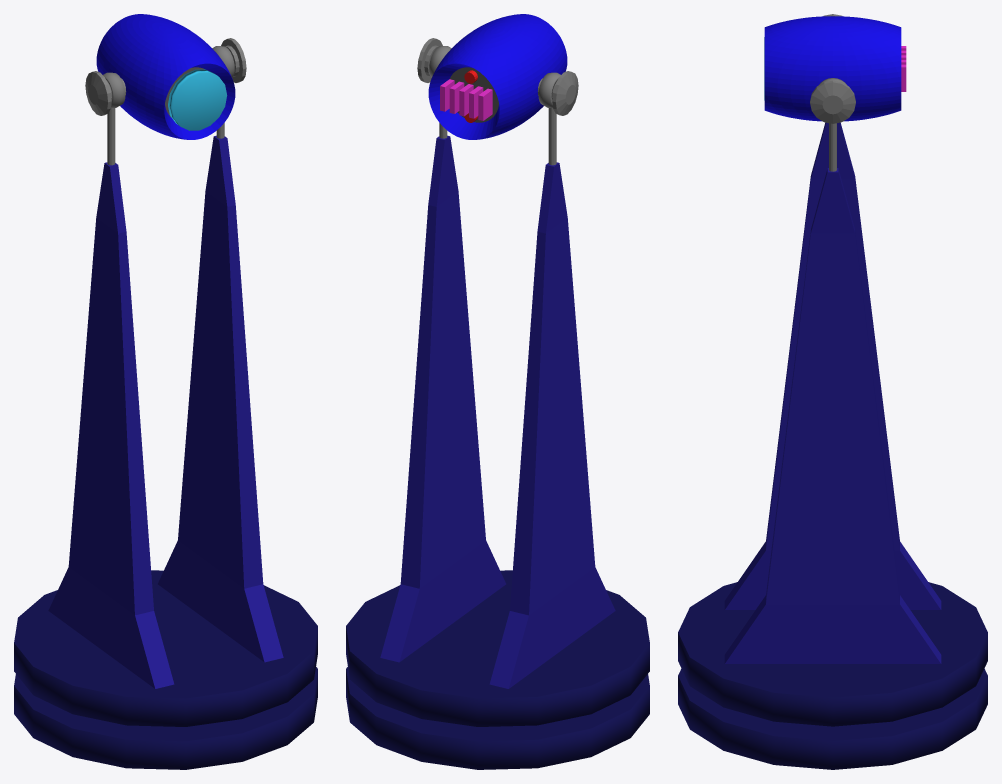
File: BorderCubeLight.fbx
The picture shows the model from 3 angles, left to right: view 1: azimuth 30°, elevation 25°; view 2: azimuth 150°, elevation 25°; view 3: azimuth 270°, elevation 25°; orthographic projection.
Visible parts, largest first — view 1: LightHolderLeft, LightHolderRight, UpperBase, BottomBase, LightBody, Reflector, Axe; view 2: LightHolderLeft, LightHolderRight, UpperBase, BottomBase, LightBody, HeatSink, Axe; view 3: LightHolderRight, UpperBase, BottomBase, LightBody, LightHolderLeft, Axe.
Part boxes in pixels (left/top/right/bottom): LightHolderLeft: left=48, top=162, right=174, bottom=688; LightHolderRight: left=158, top=135, right=283, bottom=662; UpperBase: left=14, top=570, right=317, bottom=726; BottomBase: left=14, top=667, right=317, bottom=769; LightBody: left=96, top=14, right=235, bottom=139; Reflector: left=168, top=69, right=227, bottom=130; Axe: left=85, top=38, right=246, bottom=115; LightHolderLeft: left=489, top=162, right=615, bottom=688; LightHolderRight: left=380, top=135, right=505, bottom=662; UpperBase: left=346, top=570, right=649, bottom=726; BottomBase: left=346, top=667, right=649, bottom=769; LightBody: left=428, top=14, right=567, bottom=139; HeatSink: left=440, top=79, right=492, bottom=120; Axe: left=417, top=38, right=578, bottom=115; LightHolderRight: left=724, top=168, right=941, bottom=663; UpperBase: left=678, top=582, right=987, bottom=726; BottomBase: left=678, top=668, right=987, bottom=769; LightBody: left=764, top=16, right=901, bottom=121; LightHolderLeft: left=724, top=122, right=941, bottom=609; Axe: left=810, top=14, right=855, bottom=123.
Size of the model in its own units: 972 by 2366 by 972.
